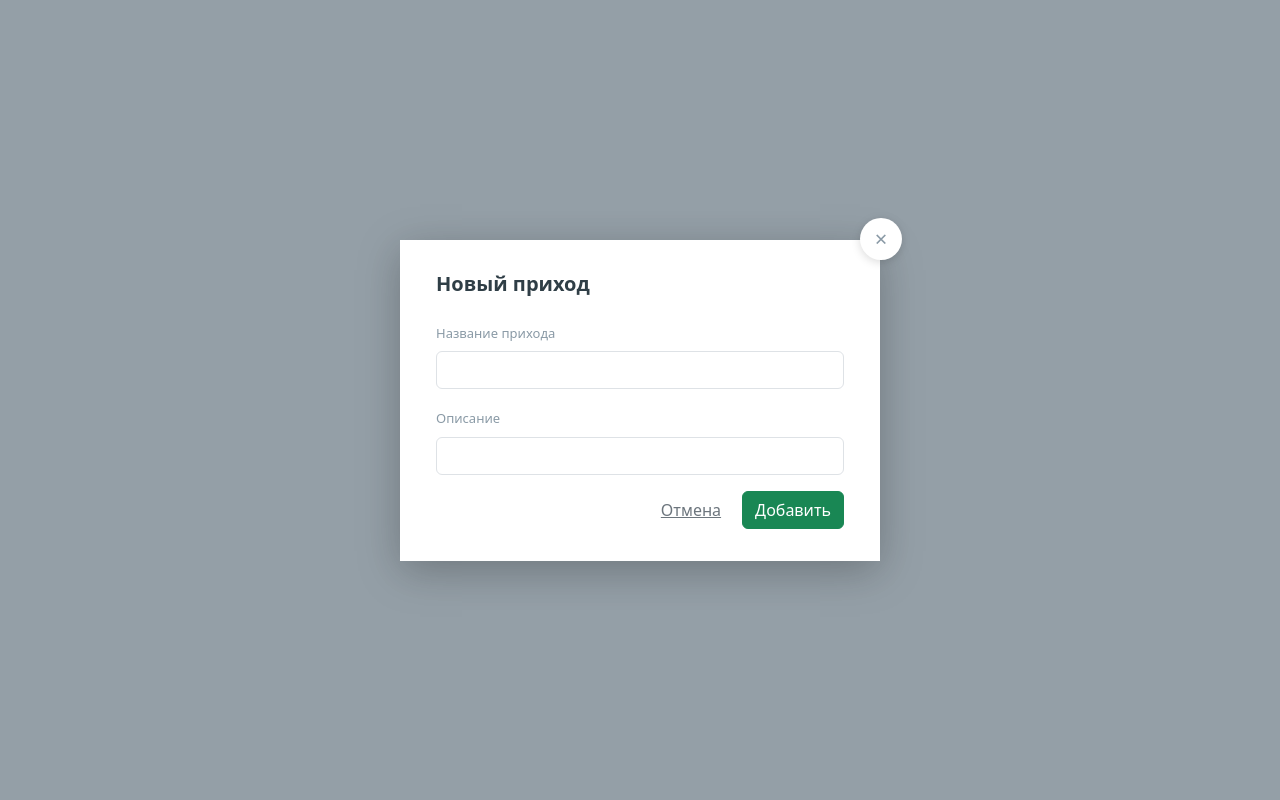
Test: <FormModal /> › shows validation errors and does not submit an invalid form
Click the button "Добавить": (793, 510) x1=742 y1=490 x2=844 y2=528
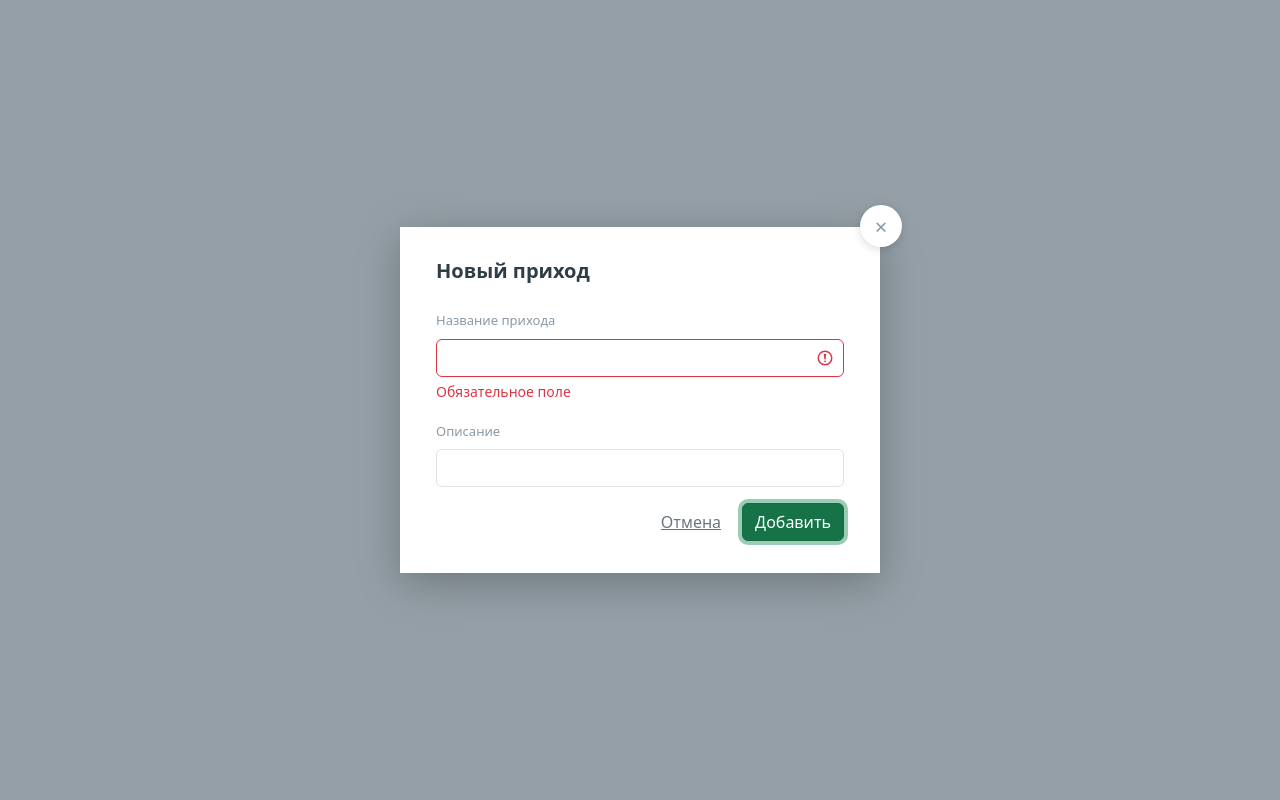
Check: the text "Обязательное поле" is shown, box x1=436 y1=382 x2=571 y2=400
In the field labelled "Название прихода": (640, 358) x1=436 y1=338 x2=844 y2=376, type "ab"
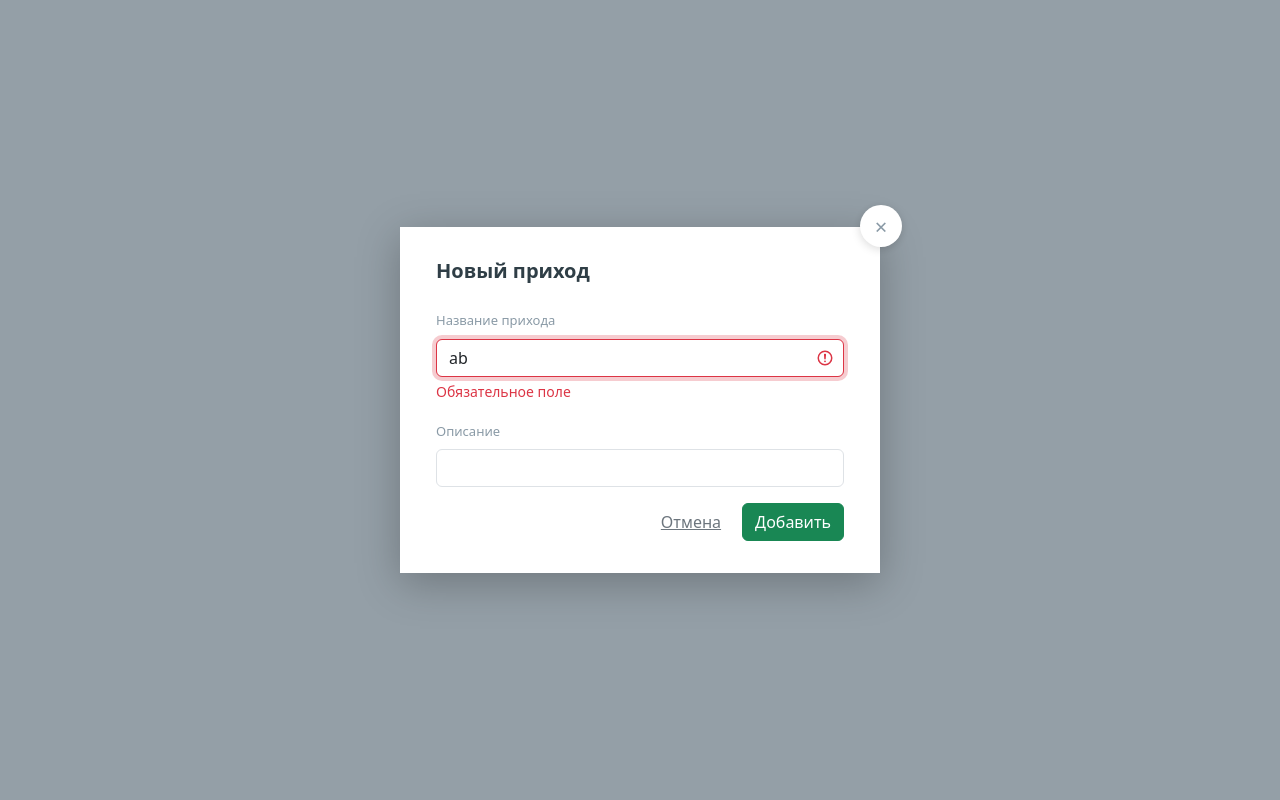
Click the button "Добавить": (793, 522) x1=742 y1=503 x2=844 y2=541
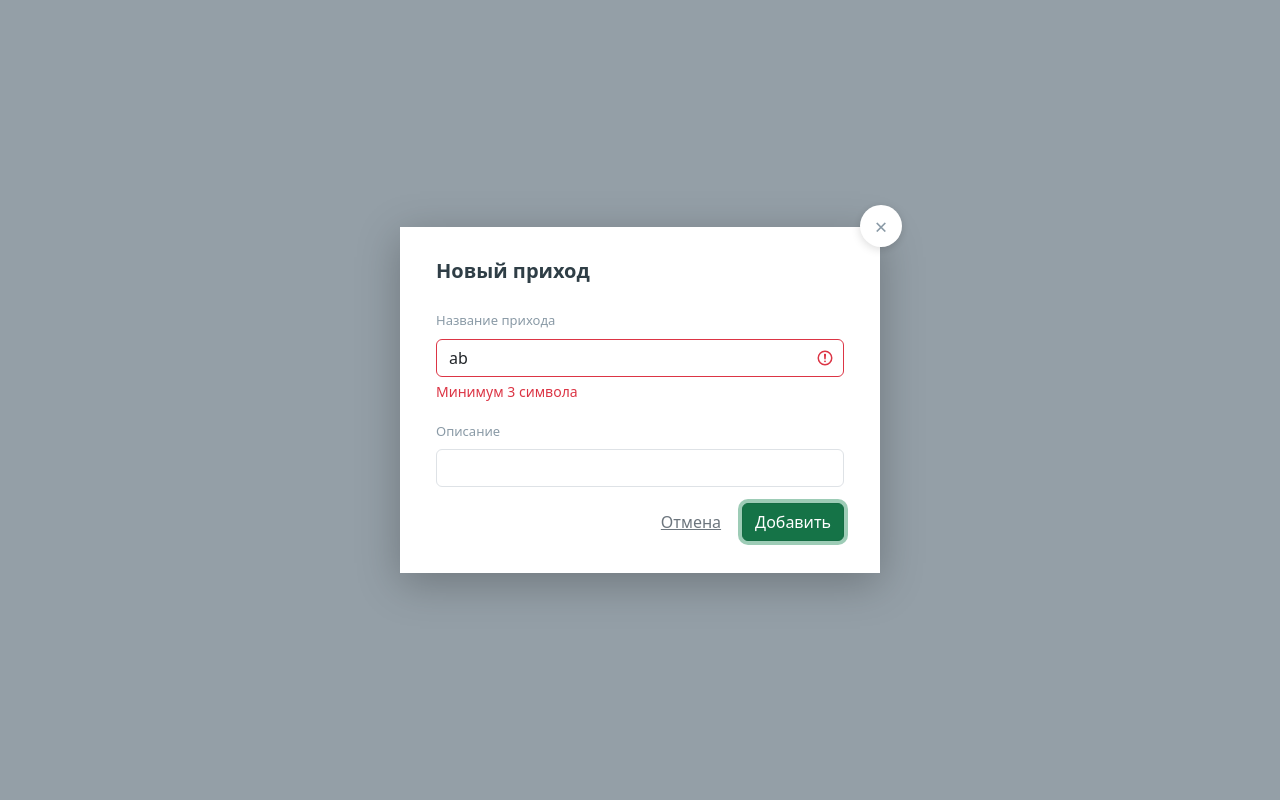
Check: the text "Минимум 3 символа" is shown, box x1=436 y1=382 x2=578 y2=400
